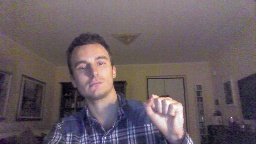Pugno: (143, 93, 186, 137)
